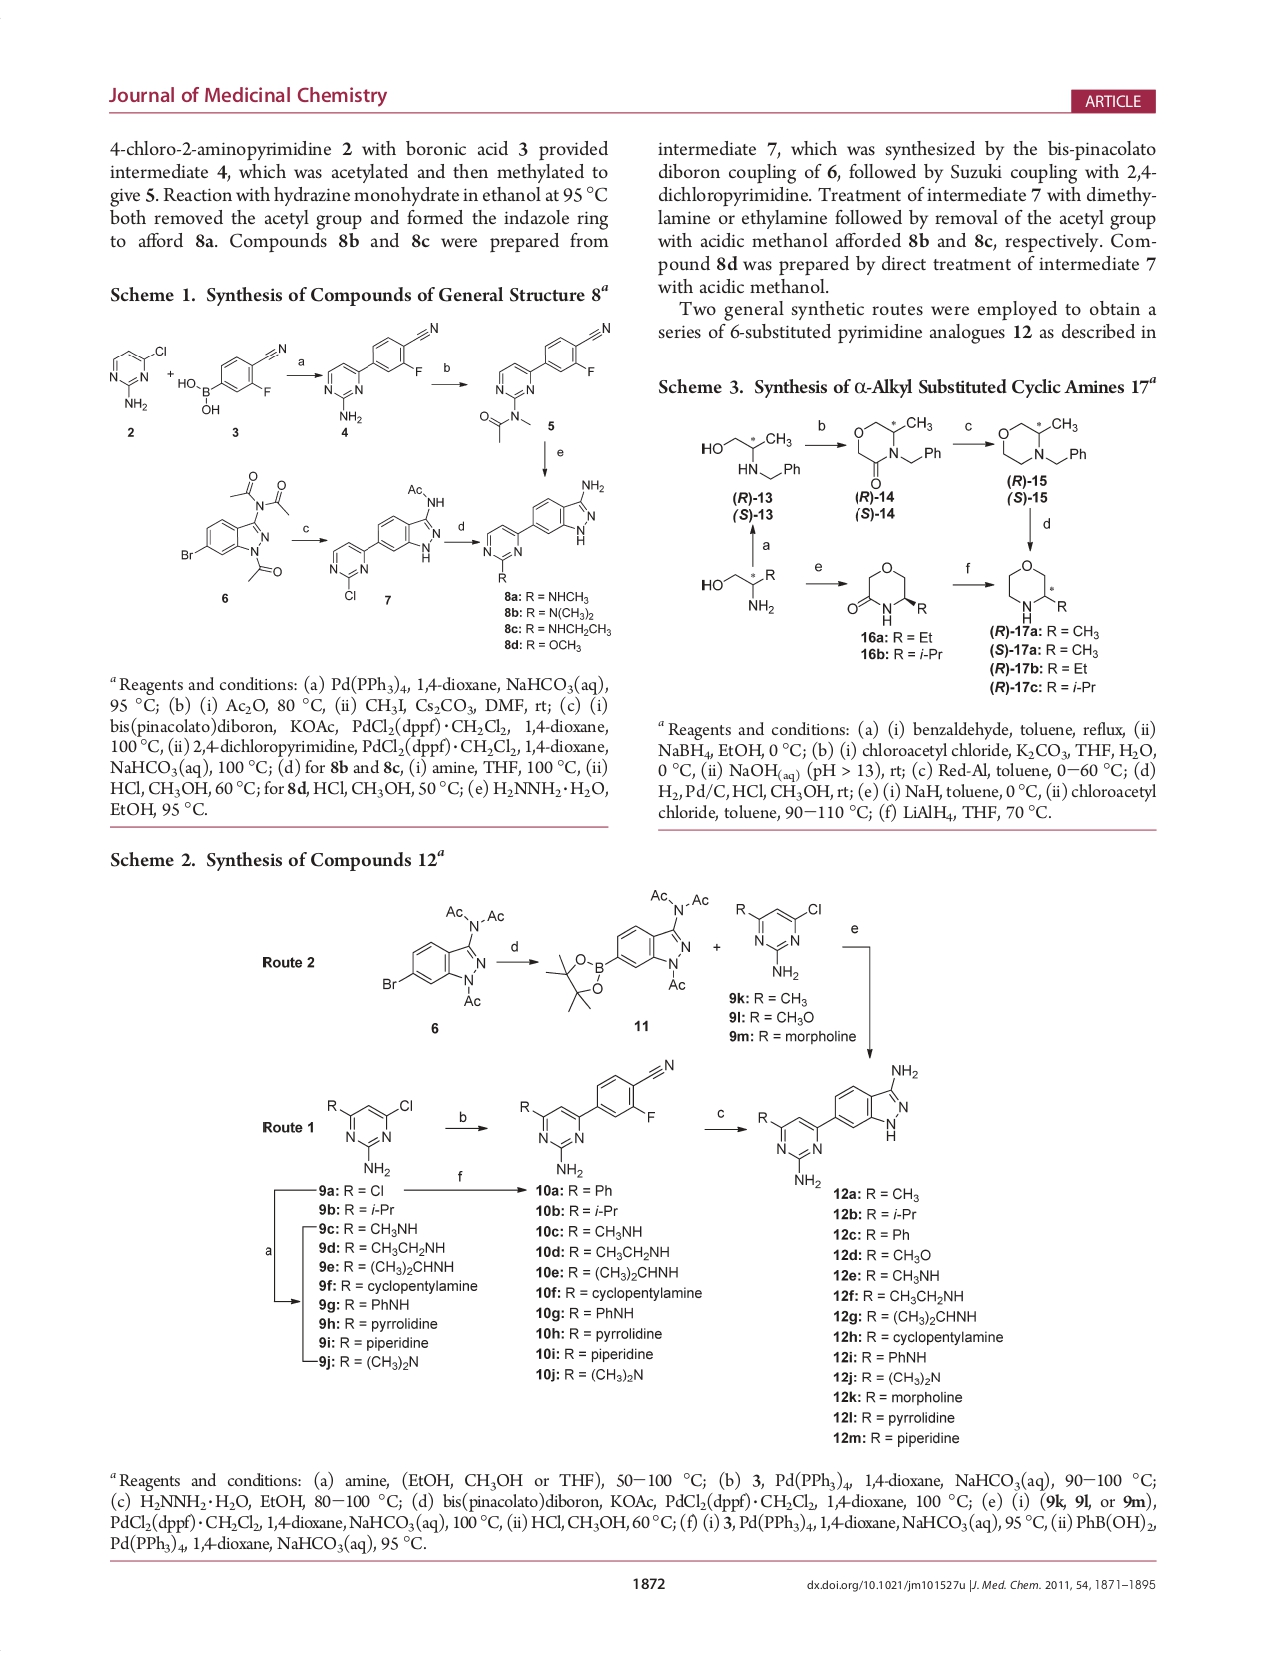exist_molecular: (751, 1063, 922, 1190), (541, 887, 709, 1013), (517, 1057, 677, 1180), (475, 322, 613, 446), (327, 481, 445, 601), (481, 477, 608, 585), (380, 902, 504, 1009), (177, 469, 293, 584), (320, 321, 442, 426), (176, 342, 287, 416), (320, 1093, 416, 1180), (733, 892, 824, 981), (844, 414, 943, 492), (844, 559, 930, 628), (698, 430, 802, 481), (997, 414, 1088, 469), (101, 339, 168, 414), (1005, 555, 1069, 625), (696, 567, 782, 614)
